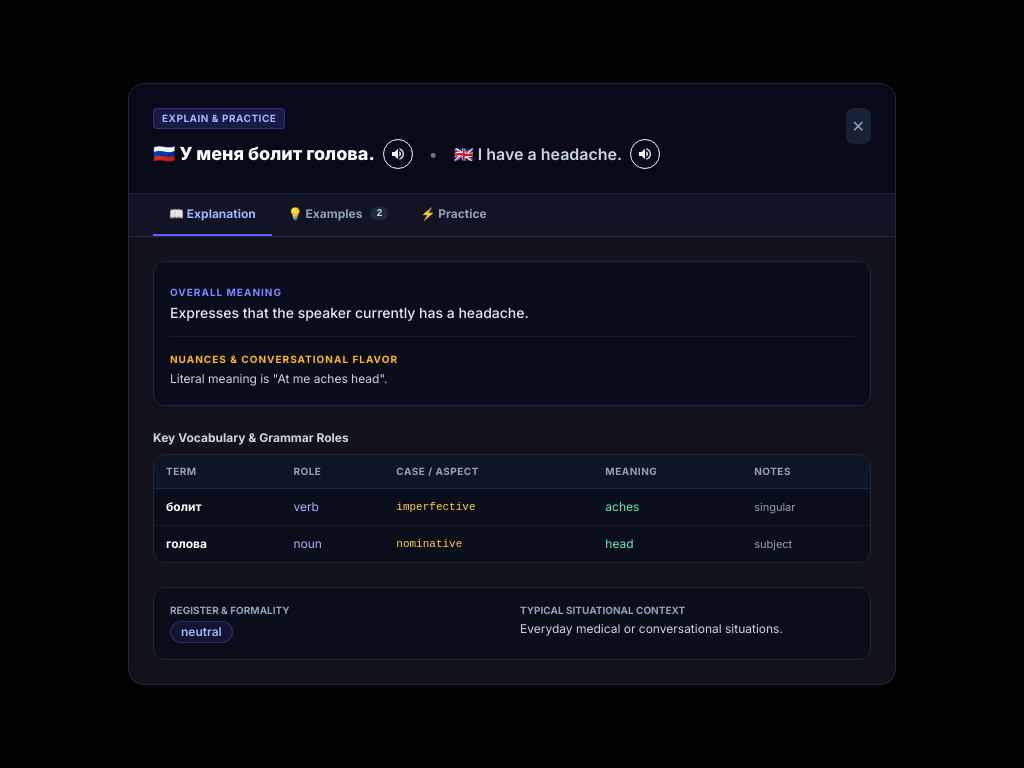
Test: ExplainPracticeModal Component › switches to Examples tab and generates more examples
expect the element with test id "tab-explanation" is shown: met, box [153,260,871,660]
Switch to Examples tab
Click the button "💡 Examples 2" at (338, 214), box [272,194,404,236]
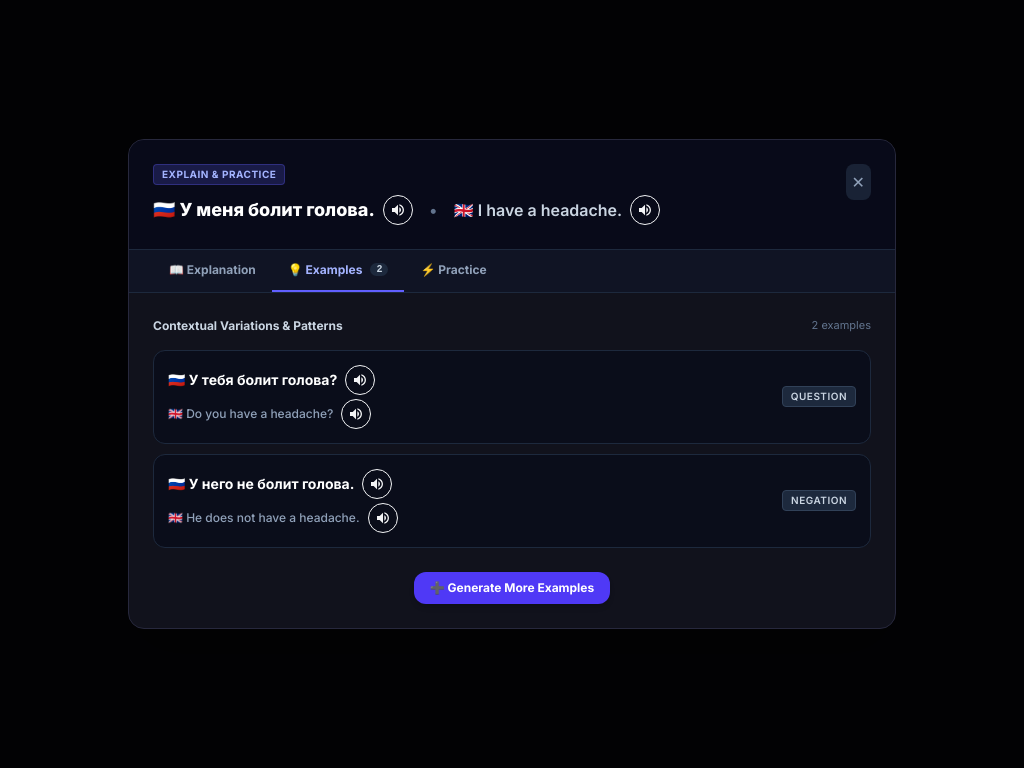
expect the element with test id "tab-examples" is shown: met, box [153,317,871,604]
expect the text "🇷🇺 У тебя болит голова?" is shown: met, box [168,370,337,390]
expect the text "🇬🇧 He does not have a headache." is shown: met, box [168,510,360,526]
Click Generate More Examples
Click the button "➕ Generate More Examples" at (512, 588), box [414,572,610,604]
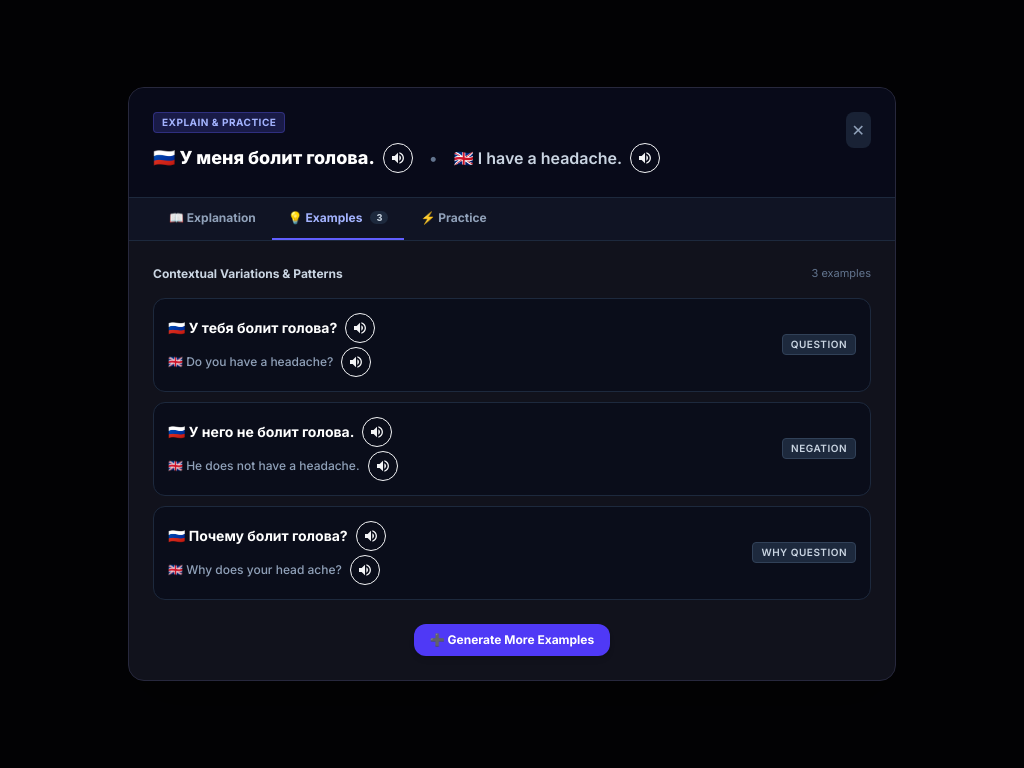
expect the text "🇷🇺 Почему болит голова?" is shown: met, box [168,526,348,546]
